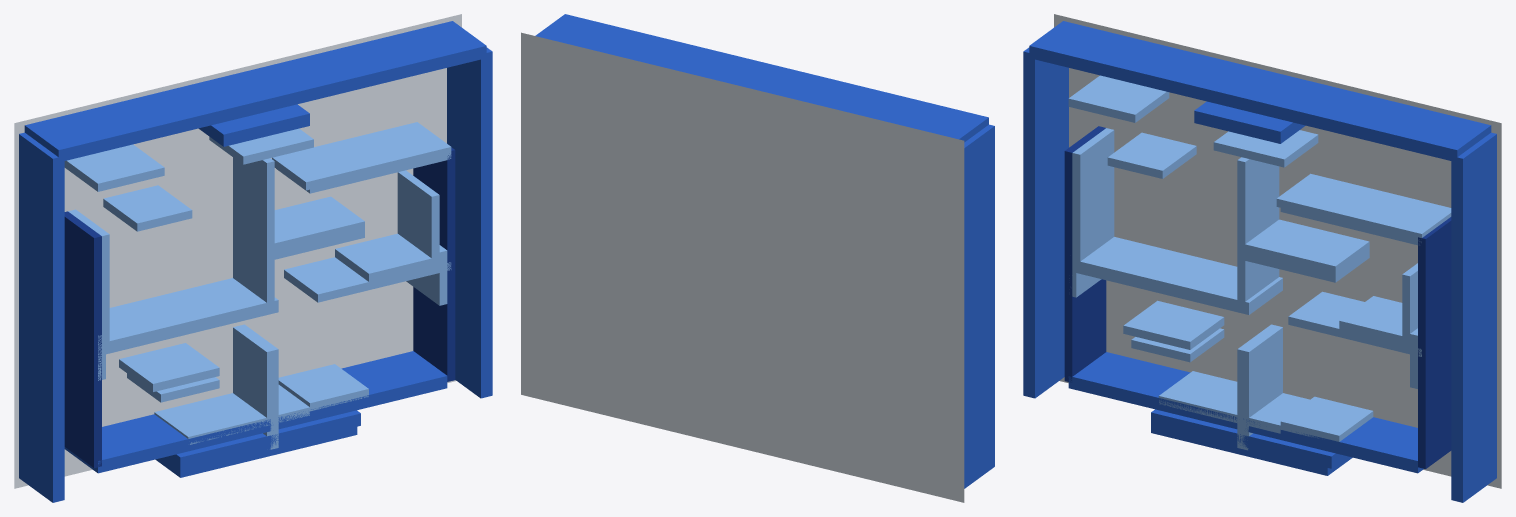
File: b4092f7f-7cfb-4a38-9e54-390f3a771a1d.obj
3 views of the same model, side by side, from view 1: azimuth 30°, elevation 25°; view 2: azimuth 150°, elevation 25°; view 3: azimuth 330°, elevation 25° (orthographic).
Size of the model in its own units: 22.8 by 17.8 by 3.05.
